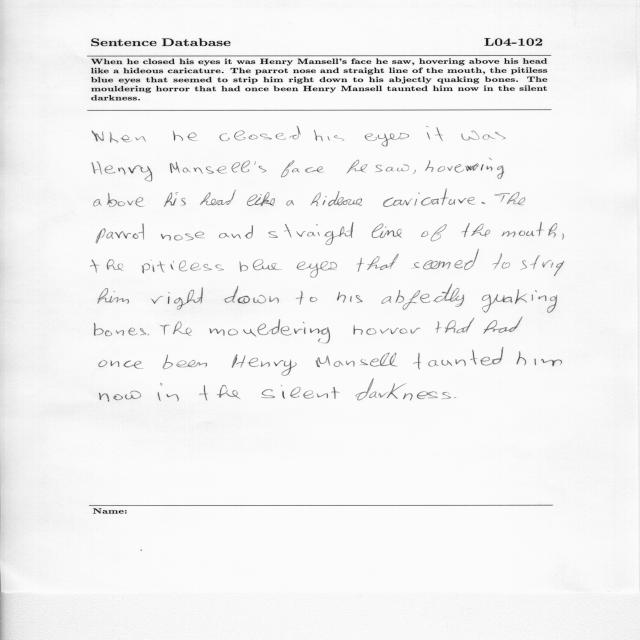word: (210, 319, 331, 343), (382, 284, 465, 310), (356, 379, 451, 401), (414, 348, 504, 370), (269, 222, 354, 245), (482, 289, 557, 313), (425, 158, 504, 179), (383, 189, 475, 207), (232, 354, 297, 376), (411, 249, 479, 270), (170, 160, 267, 174), (316, 353, 398, 368), (220, 126, 301, 141), (92, 162, 152, 182), (151, 287, 203, 310), (261, 385, 340, 399), (142, 260, 224, 273), (96, 224, 144, 244), (224, 286, 279, 303), (521, 255, 565, 276), (502, 222, 557, 238), (311, 191, 363, 206), (356, 254, 399, 272), (516, 351, 562, 367), (281, 161, 324, 178), (92, 131, 146, 144), (94, 193, 144, 207), (296, 261, 337, 278), (95, 323, 147, 336), (354, 325, 421, 335), (484, 317, 523, 334), (163, 355, 208, 369), (436, 318, 475, 334), (199, 385, 240, 400), (365, 133, 409, 146), (240, 259, 283, 272), (200, 190, 236, 205), (98, 288, 129, 304), (160, 321, 192, 336), (219, 225, 253, 239), (91, 259, 124, 273), (99, 391, 141, 402), (461, 131, 506, 141), (372, 223, 402, 238), (421, 225, 447, 242), (461, 223, 490, 237), (158, 383, 179, 402), (161, 232, 205, 241), (99, 360, 143, 369), (247, 192, 275, 206), (495, 192, 525, 205), (314, 130, 344, 141), (164, 192, 186, 207), (296, 291, 317, 305), (492, 254, 510, 270), (337, 292, 363, 303), (347, 160, 368, 173), (375, 164, 409, 172), (427, 126, 444, 141), (173, 131, 198, 141), (286, 200, 294, 206), (562, 233, 564, 240), (413, 170, 416, 174), (482, 202, 486, 204), (148, 334, 150, 335), (454, 398, 456, 399)
